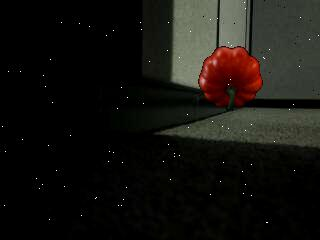Pumpkin: (196, 44, 262, 110)
